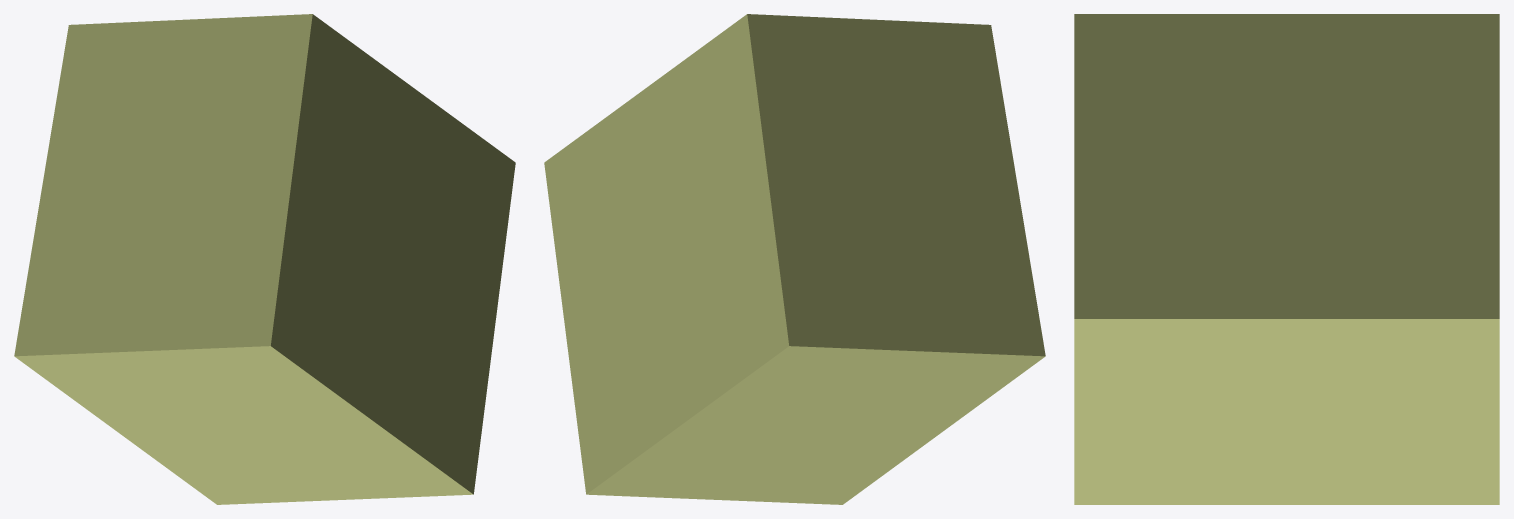
3 renders of one model, left to right at view 1: azimuth 30°, elevation 25°; view 2: azimuth 150°, elevation 25°; view 3: azimuth 270°, elevation 25°, orthographic. The views are drawn at different scales.
Visible parts, largest first — view 1: 0_1_0_2_0_0_0_1_0_2_0; view 2: 0_1_0_2_0_0_0_1_0_2_0; view 3: 0_1_0_2_0_0_0_1_0_2_0.
Boxes of the visible parts, x1,y1,x2,y2 form: 0_1_0_2_0_0_0_1_0_2_0: [14, 14, 515, 504]; 0_1_0_2_0_0_0_1_0_2_0: [544, 14, 1045, 504]; 0_1_0_2_0_0_0_1_0_2_0: [1074, 14, 1499, 504].
Size of the model in its own units: 5.09 by 6.04 by 6.
